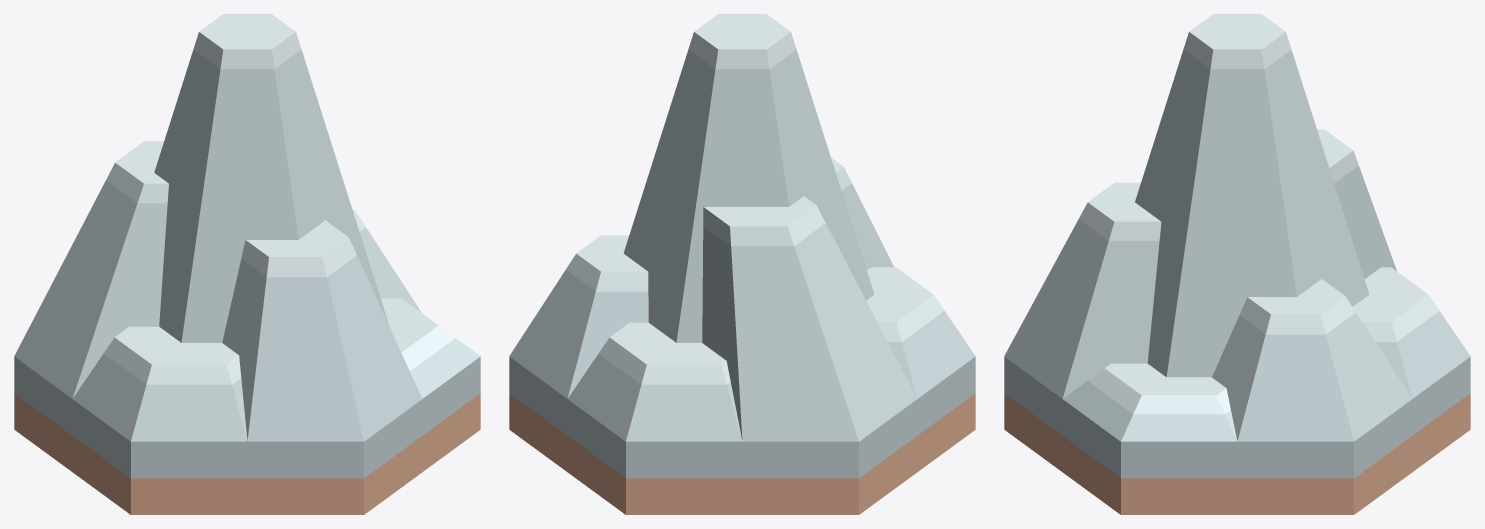
File: stone_mountain.glb
The picture shows the model from 3 angles, left to right: view 1: azimuth 30°, elevation 25°; view 2: azimuth 150°, elevation 25°; view 3: azimuth 270°, elevation 25°; orthographic projection.
Visible parts, largest first — view 1: rockLarge, stone_mountain; view 2: rockLarge, stone_mountain; view 3: rockLarge, stone_mountain.
Boxes of the visible parts, x1=… form: rockLarge: x1=14, y1=14, x2=480, y2=441; stone_mountain: x1=14, y1=356, x2=480, y2=514; rockLarge: x1=509, y1=14, x2=975, y2=441; stone_mountain: x1=509, y1=356, x2=975, y2=514; rockLarge: x1=1004, y1=14, x2=1470, y2=441; stone_mountain: x1=1004, y1=356, x2=1470, y2=514.
Bounding box in the file's own units: 1 × 1.09 × 1.15.
